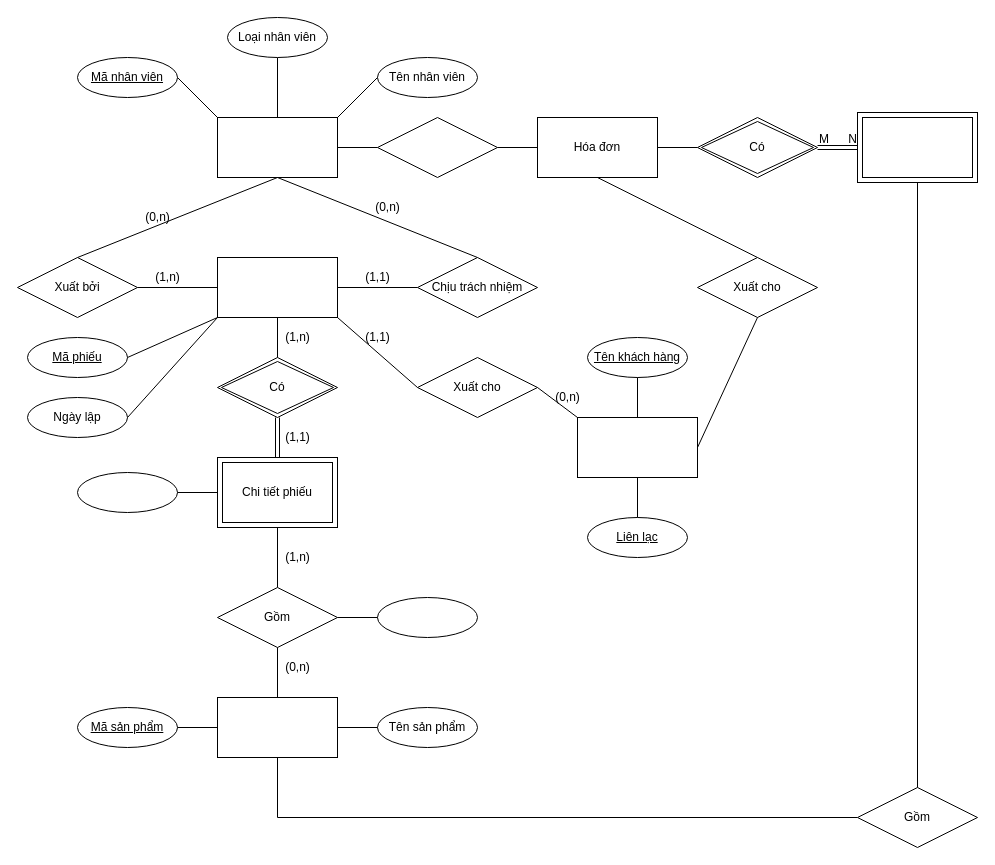
This 995x865 diagram has some shape labels left out. Each missing label, with the centre of its shape:
"Chi tiết hóa đơn" goes at pixel 917 147.
"Khách hàng" goes at pixel 637 447.
"Nhân viên" goes at pixel 277 147.
"Phiếu xuất kho" goes at pixel 277 287.
"STT" goes at pixel 127 492.
"Sản phẩm" goes at pixel 277 727.
"Số lượng" goes at pixel 427 617.
"Xuất" goes at pixel 437 147.
